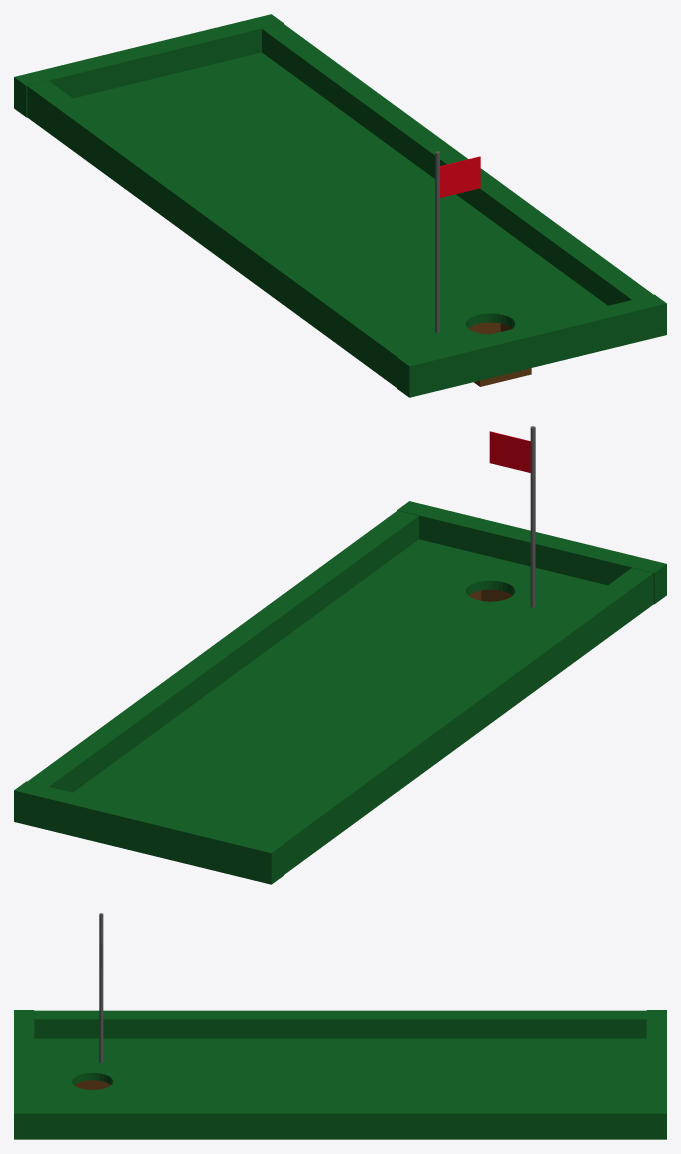
Rendered from Pista1Finalblend.fbx.
3 views of the same model, one above another, from view 1: azimuth 30°, elevation 25°; view 2: azimuth 150°, elevation 25°; view 3: azimuth 270°, elevation 25° (orthographic). The views are drawn at different scales.
Parts seen in each view (by area): view 1: Cube.003, Cube.002, Cube.001, Cube.004, Cube, Cube.006, Cylinder, Cube.005; view 2: Cube.003, Cube.002, Cube.001, Cube, Cube.004, Cube.006, Cylinder; view 3: Cube.003, Cube.001, Cube.002, Cube, Cube.004, Cylinder.
Boxes of the visible parts, bbox=[...] form: Cube.003: bbox=[73, 52, 607, 351]; Cube.002: bbox=[27, 81, 418, 387]; Cube.001: bbox=[262, 23, 652, 305]; Cube.004: bbox=[397, 294, 666, 397]; Cube: bbox=[14, 14, 283, 117]; Cube.006: bbox=[440, 156, 480, 197]; Cylinder: bbox=[435, 151, 439, 332]; Cube.005: bbox=[468, 322, 531, 386]; Cube.003: bbox=[73, 539, 607, 838]; Cube.002: bbox=[262, 568, 653, 874]; Cube.001: bbox=[27, 510, 418, 792]; Cube: bbox=[14, 781, 283, 884]; Cube.004: bbox=[397, 501, 666, 604]; Cube.006: bbox=[489, 431, 530, 472]; Cylinder: bbox=[530, 426, 535, 607]; Cube.003: bbox=[34, 1038, 646, 1104]; Cube.001: bbox=[34, 1105, 646, 1139]; Cube.002: bbox=[34, 1010, 646, 1038]; Cube: bbox=[646, 1010, 666, 1139]; Cube.004: bbox=[14, 1010, 34, 1139]; Cylinder: bbox=[99, 913, 103, 1062].
Bounding box in the file's own units: 1200 × 1001 × 3190.
